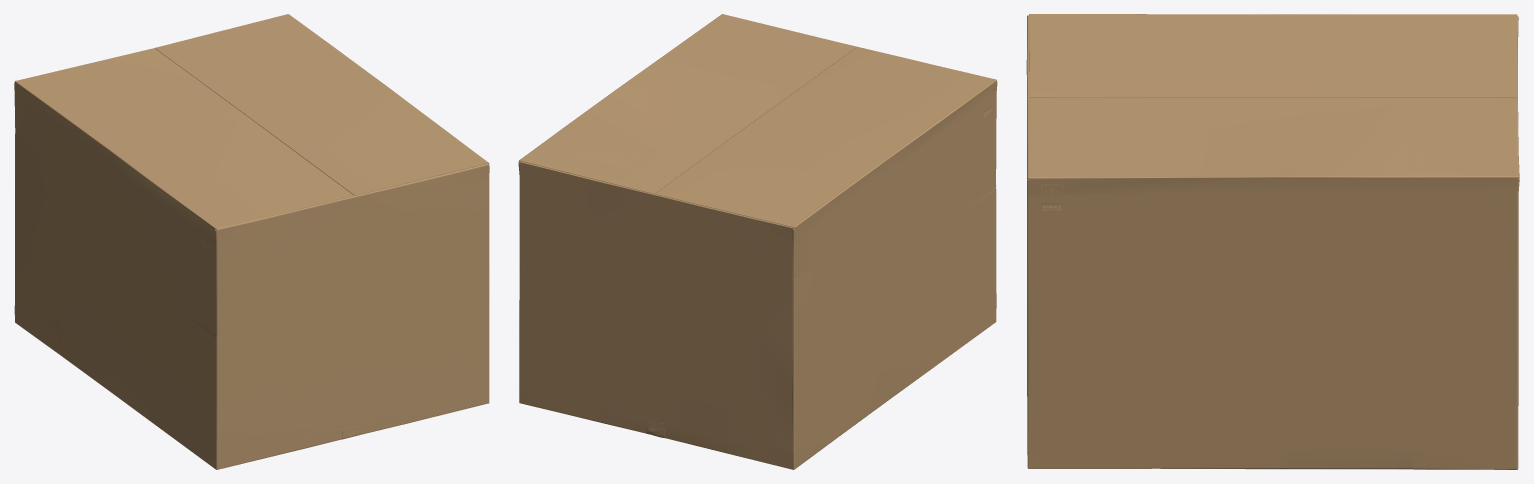
The model's file is box_corrugated_white_b21.glb.
3 renders of one model, left to right at view 1: azimuth 30°, elevation 25°; view 2: azimuth 150°, elevation 25°; view 3: azimuth 270°, elevation 25°, orthographic. The views are drawn at different scales.
Size of the model in its own units: 0.3005 by 0.2534 by 0.3843.
